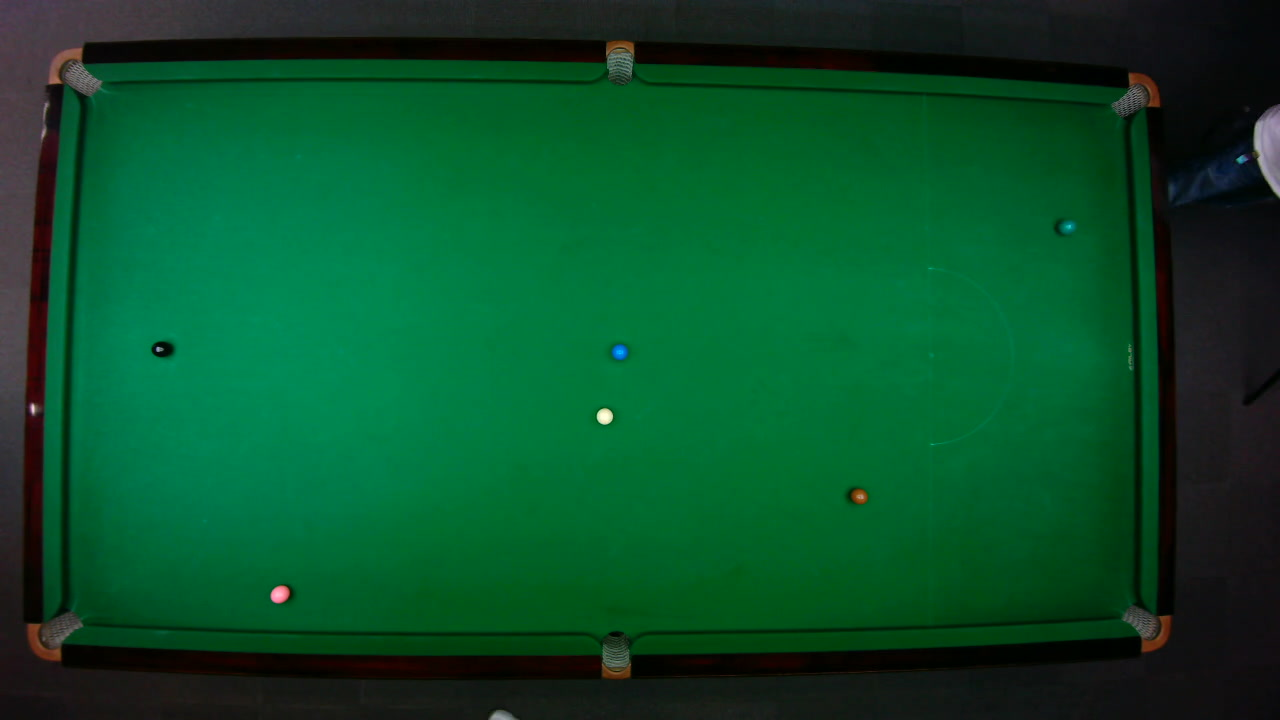bag: (25, 609, 84, 661), (46, 47, 102, 96), (1120, 603, 1171, 651), (1109, 71, 1161, 118), (600, 629, 630, 680), (605, 38, 633, 86)
black: (149, 339, 171, 357)
blue: (610, 342, 628, 360)
brown: (848, 487, 868, 504)
green: (1055, 218, 1076, 234)
pink: (268, 583, 291, 604)
white: (594, 406, 614, 425)
zone: (927, 266, 1013, 444)
